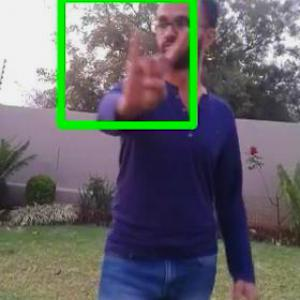takeoff-hand: (116, 20, 197, 117)
